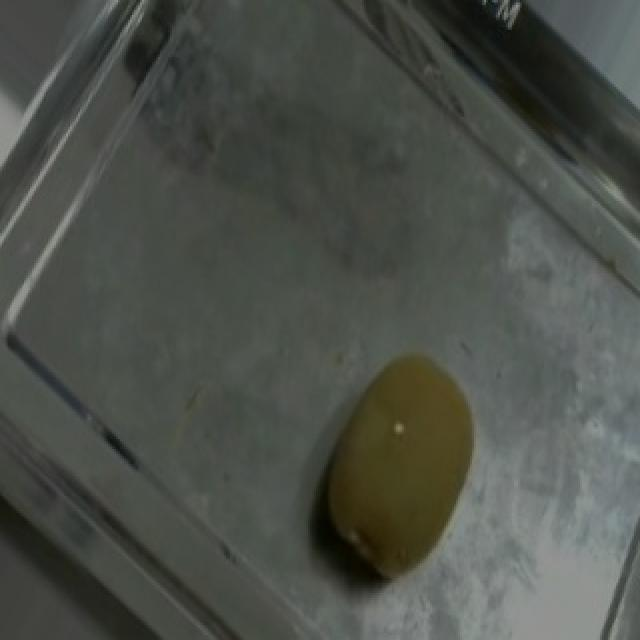Fruit: (280, 328, 516, 610)
